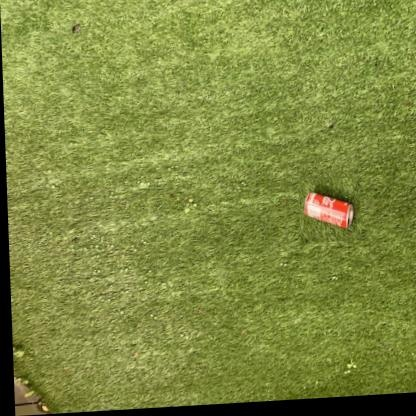trash: (304, 192, 353, 227)
